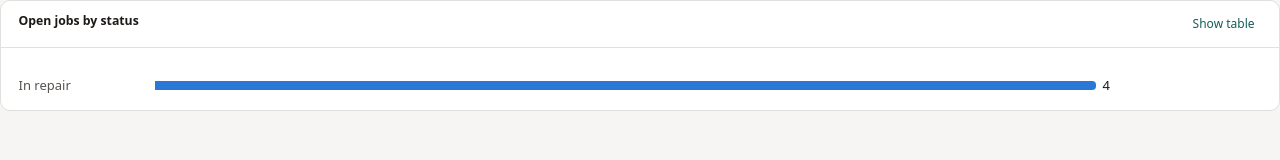
Test: ChartCard › switches between the chart and its table view
Expected: the list named "Open jobs" reads "In repair 4", [18,76,1262,96]
Step 1. Click the button "Show table" → coordinates (1224, 24), box [1186,12,1262,36]
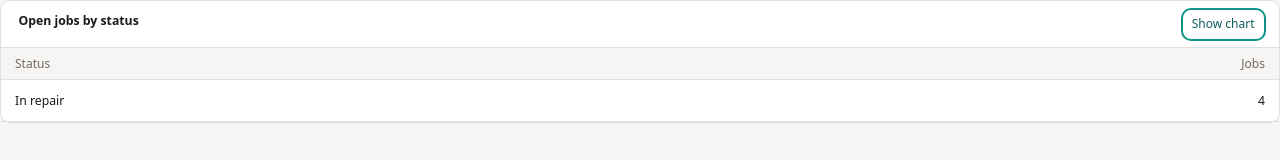
Result: the table reads "Status Jobs In repair 4" at [1,48,1279,122]
